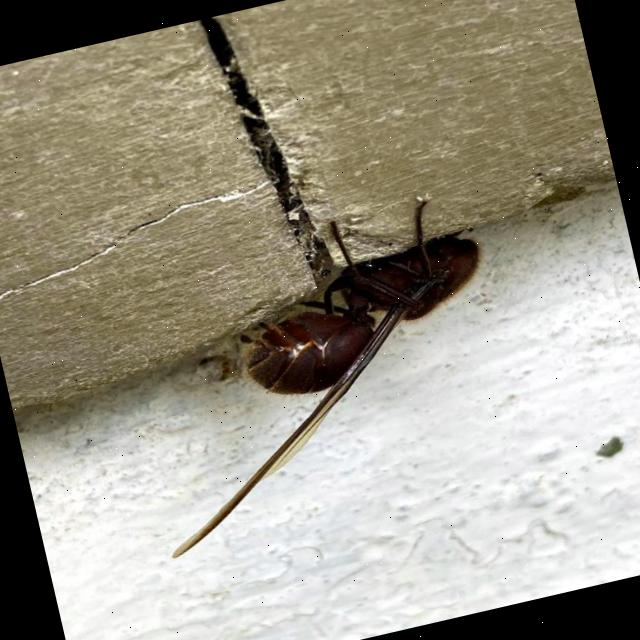Alive-Female-Alate: (104, 181, 537, 558)
